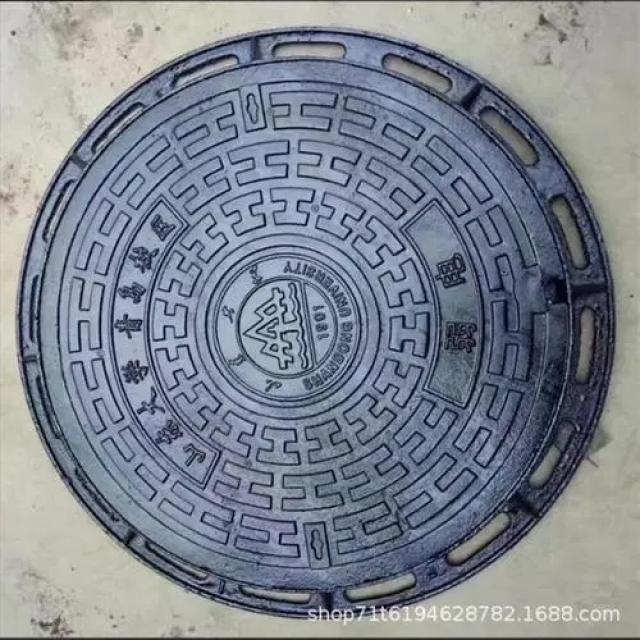manhole: (20, 30, 614, 616)
